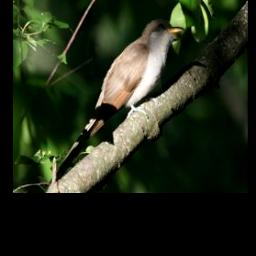Cuckoo: (50, 18, 184, 184)
